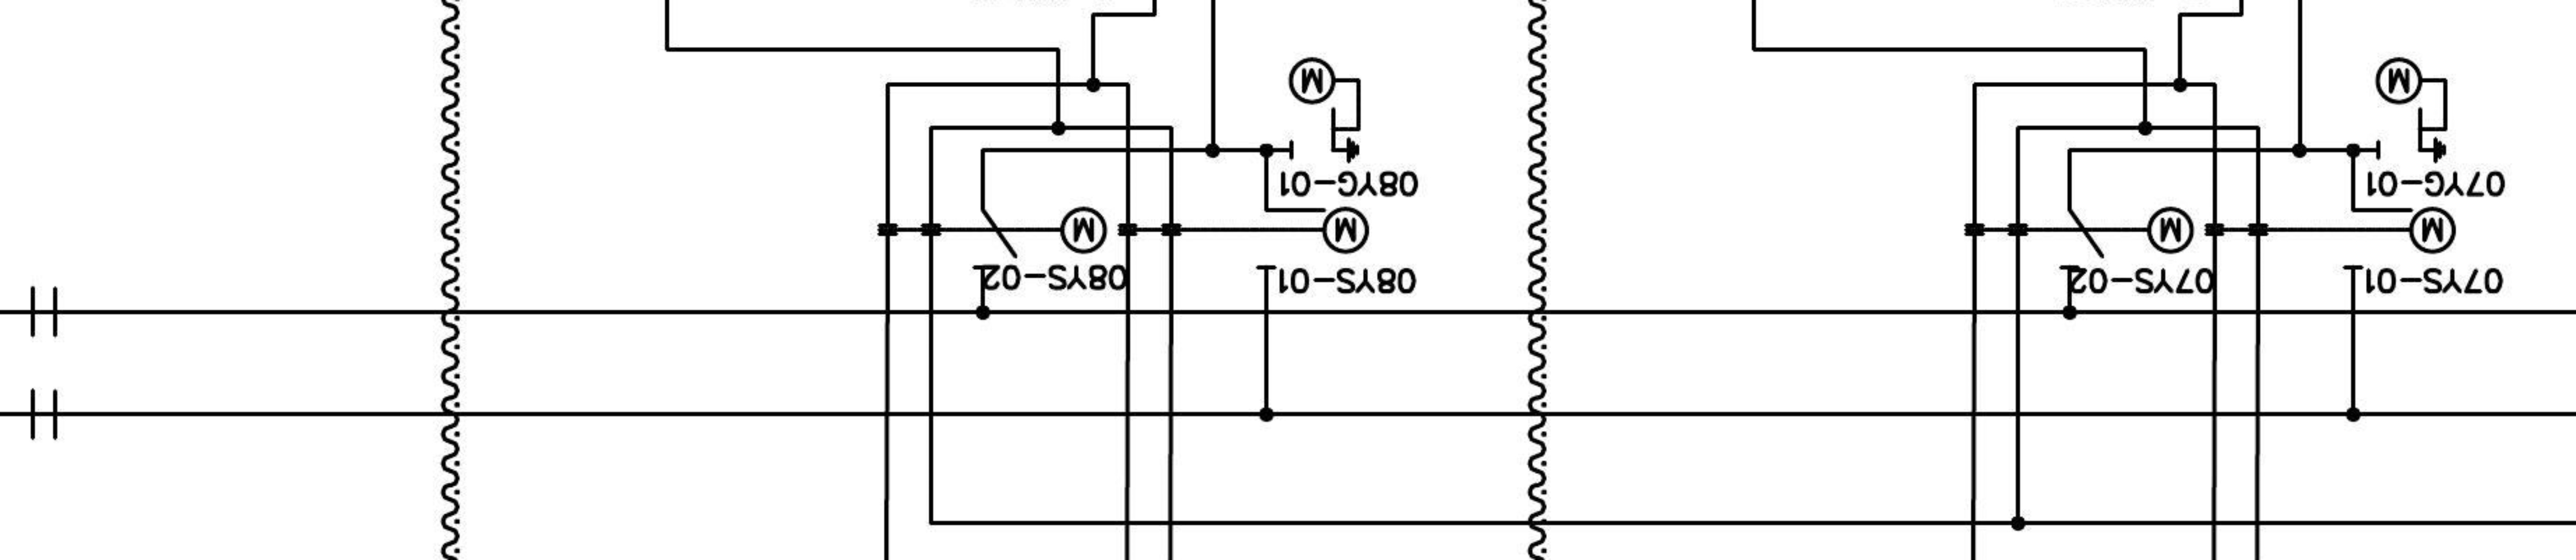115_1way_ds_w_motor: (971, 205, 1109, 271), (2058, 205, 2195, 271), (2341, 205, 2458, 271), (1255, 205, 1370, 271)
115_buffer: (30, 286, 58, 338), (31, 388, 58, 440)
115_gs_w_motor: (2376, 56, 2450, 164), (1288, 56, 1362, 164)
